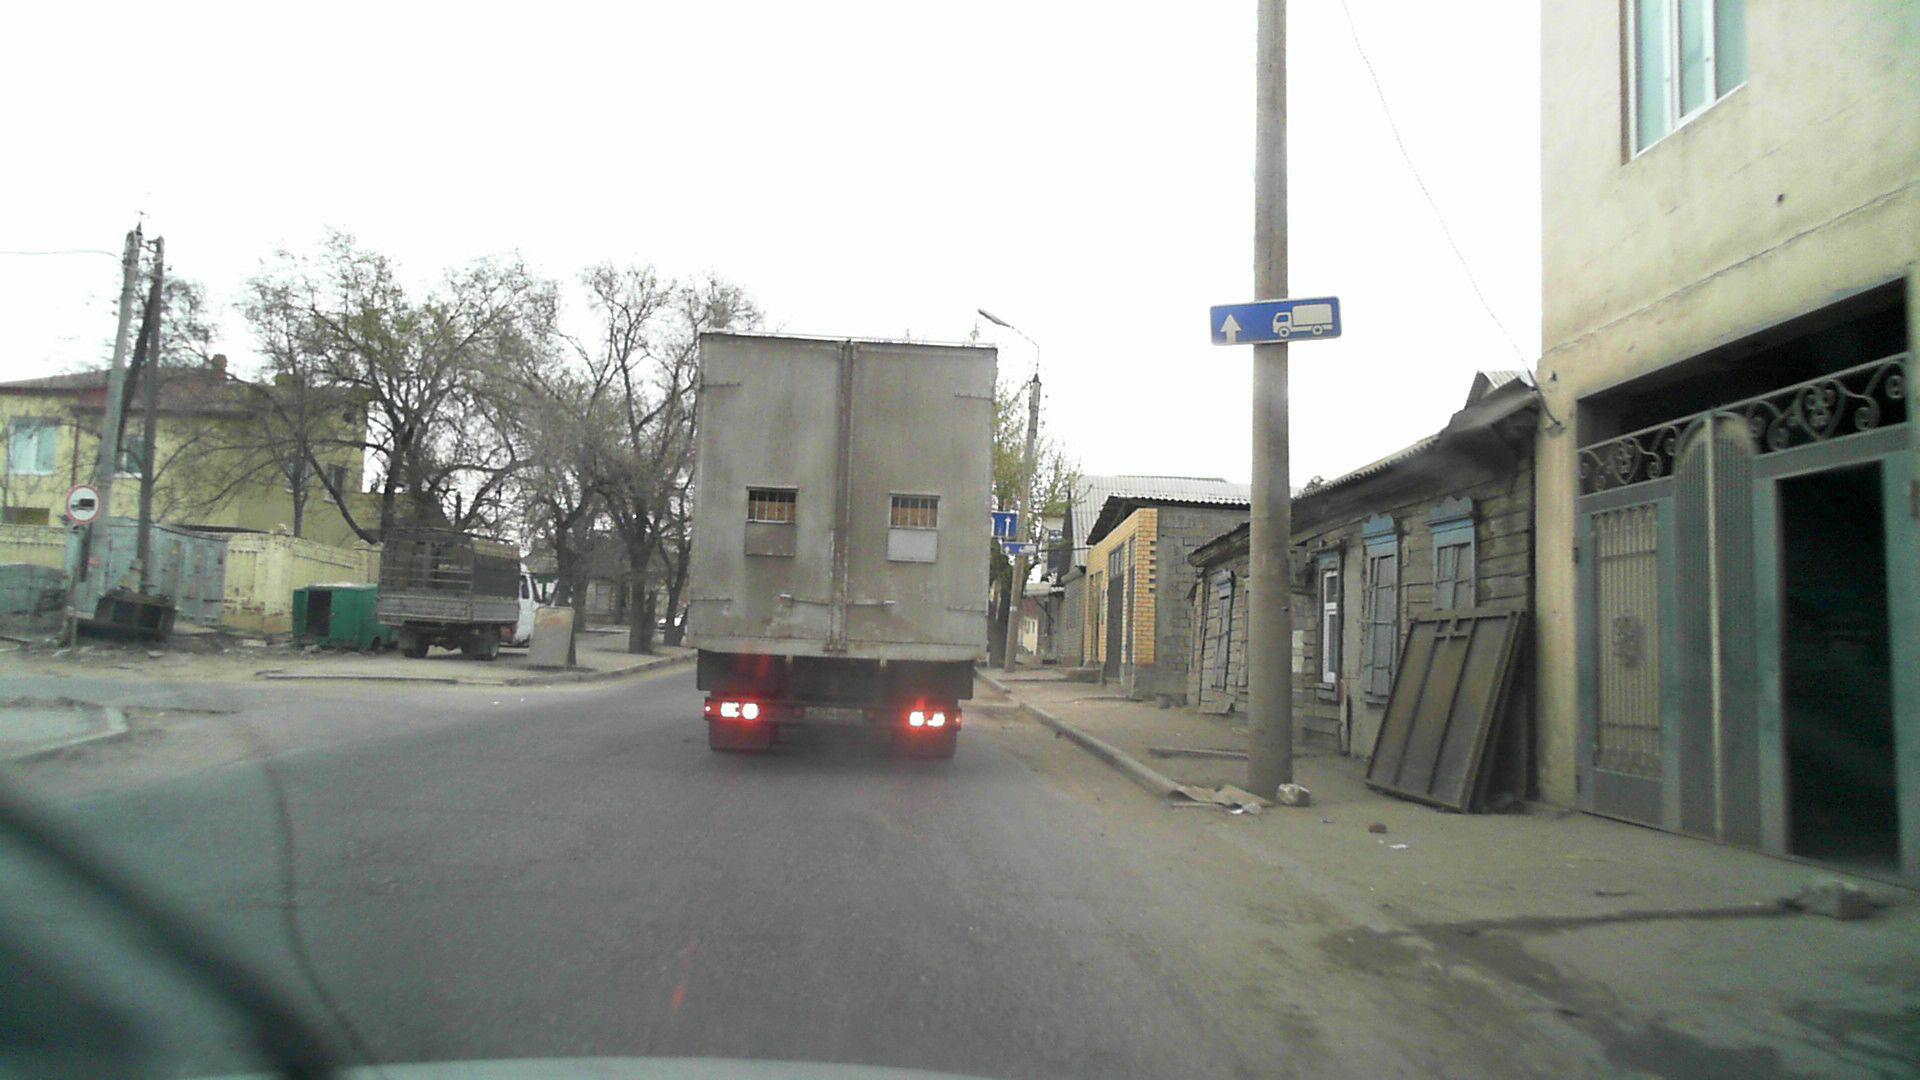3_4: (67, 485, 102, 522)
5_15_1: (989, 512, 1019, 537)
6_15_1: (1207, 297, 1340, 346), (1003, 543, 1040, 556)
